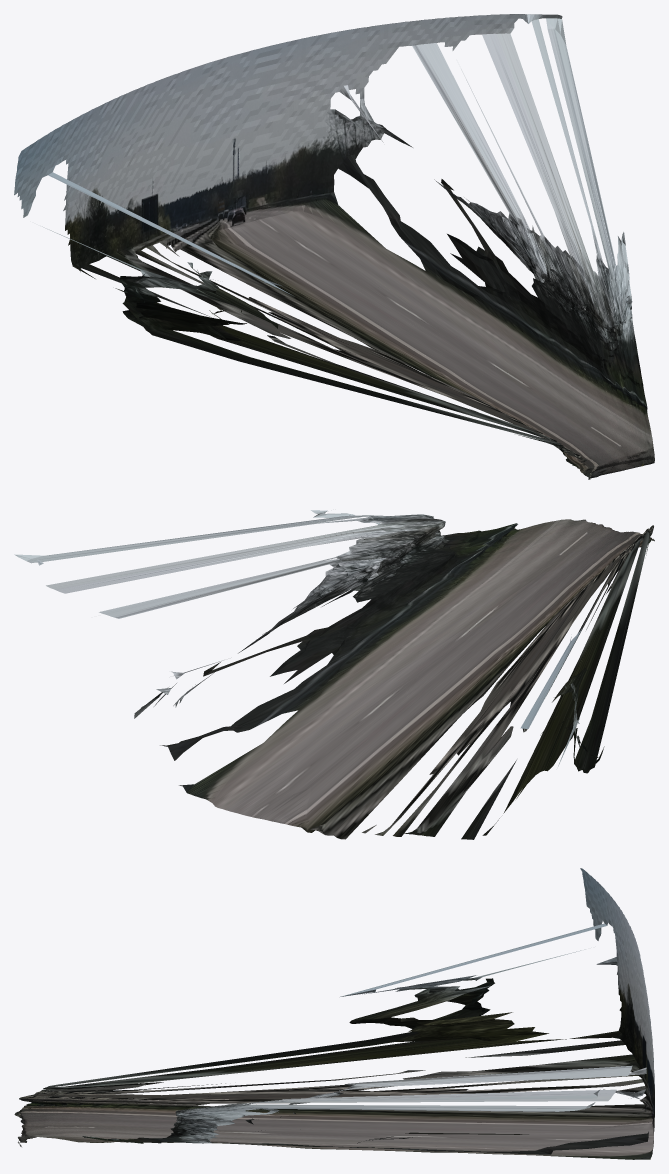
The picture shows the model from 3 angles, top to bottom: view 1: azimuth 30°, elevation 25°; view 2: azimuth 150°, elevation 25°; view 3: azimuth 270°, elevation 25°; orthographic projection. The views are drawn at different scales.
Parts seen in each view (by area): view 1: defaultobject; view 2: defaultobject; view 3: defaultobject.
Boxes of the visible parts, box(x1,y1,x2,y2) form: defaultobject: box(14, 14, 654, 479); defaultobject: box(14, 510, 654, 839); defaultobject: box(14, 868, 654, 1159).
Size of the model in its own units: 39.2 by 12.45 by 44.55.
1 material, 1 textured.
